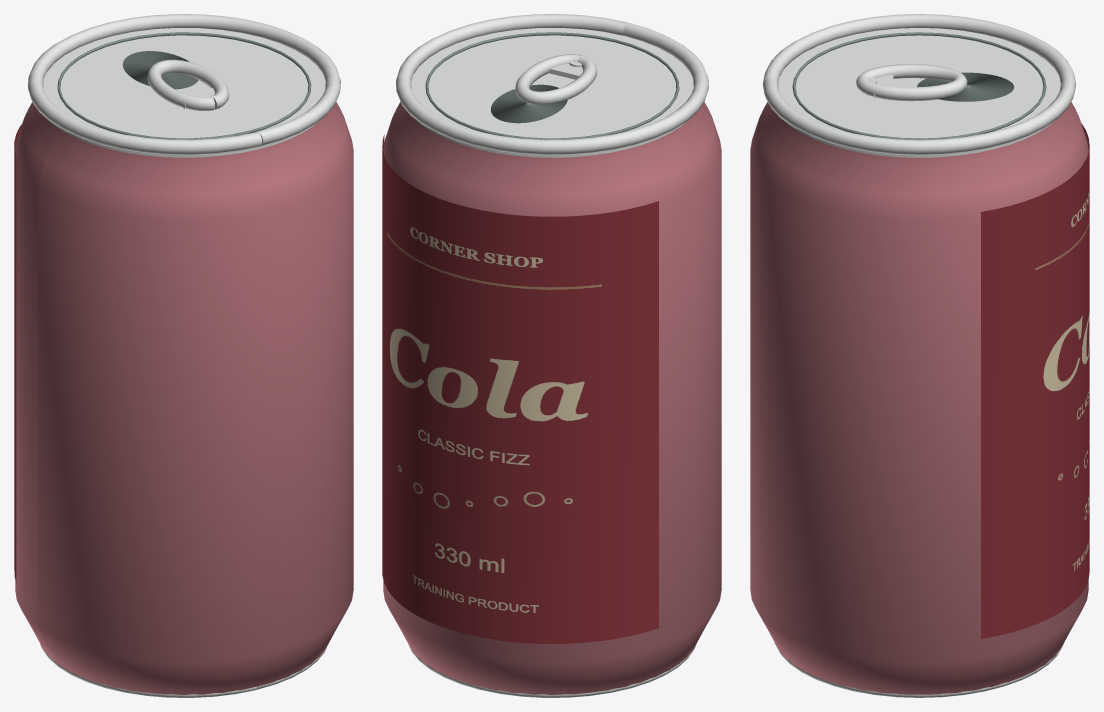
Rendered from cola.glb.
3 views of the same model, side by side, from view 1: azimuth 30°, elevation 25°; view 2: azimuth 150°, elevation 25°; view 3: azimuth 270°, elevation 25° (orthographic).
Visible parts, largest first — view 1: library-cola-cola-drawn-can, library-cola-product-cola-aluminium, library-cola-product-cola-recess, library-cola-cola-curved-print; view 2: library-cola-cola-curved-print, library-cola-cola-drawn-can, library-cola-product-cola-aluminium, library-cola-product-cola-recess; view 3: library-cola-cola-drawn-can, library-cola-cola-curved-print, library-cola-product-cola-aluminium, library-cola-product-cola-recess.
Part boxes in pixels (x1=…): library-cola-cola-drawn-can: x1=15, y1=102, x2=353, y2=694; library-cola-product-cola-aluminium: x1=28, y1=14, x2=340, y2=697; library-cola-product-cola-recess: x1=57, y1=32, x2=311, y2=139; library-cola-cola-curved-print: x1=14, y1=124, x2=21, y2=582; library-cola-cola-curved-print: x1=382, y1=134, x2=658, y2=643; library-cola-cola-drawn-can: x1=383, y1=102, x2=721, y2=694; library-cola-product-cola-aluminium: x1=396, y1=14, x2=708, y2=697; library-cola-product-cola-recess: x1=425, y1=32, x2=679, y2=139; library-cola-cola-drawn-can: x1=750, y1=102, x2=1088, y2=694; library-cola-cola-curved-print: x1=981, y1=123, x2=1089, y2=638; library-cola-product-cola-aluminium: x1=762, y1=14, x2=1076, y2=697; library-cola-product-cola-recess: x1=792, y1=32, x2=1046, y2=139.
Size of the model in its own units: 0.066 by 0.1218 by 0.0662.
Materials: 4 (1 with a texture image).
